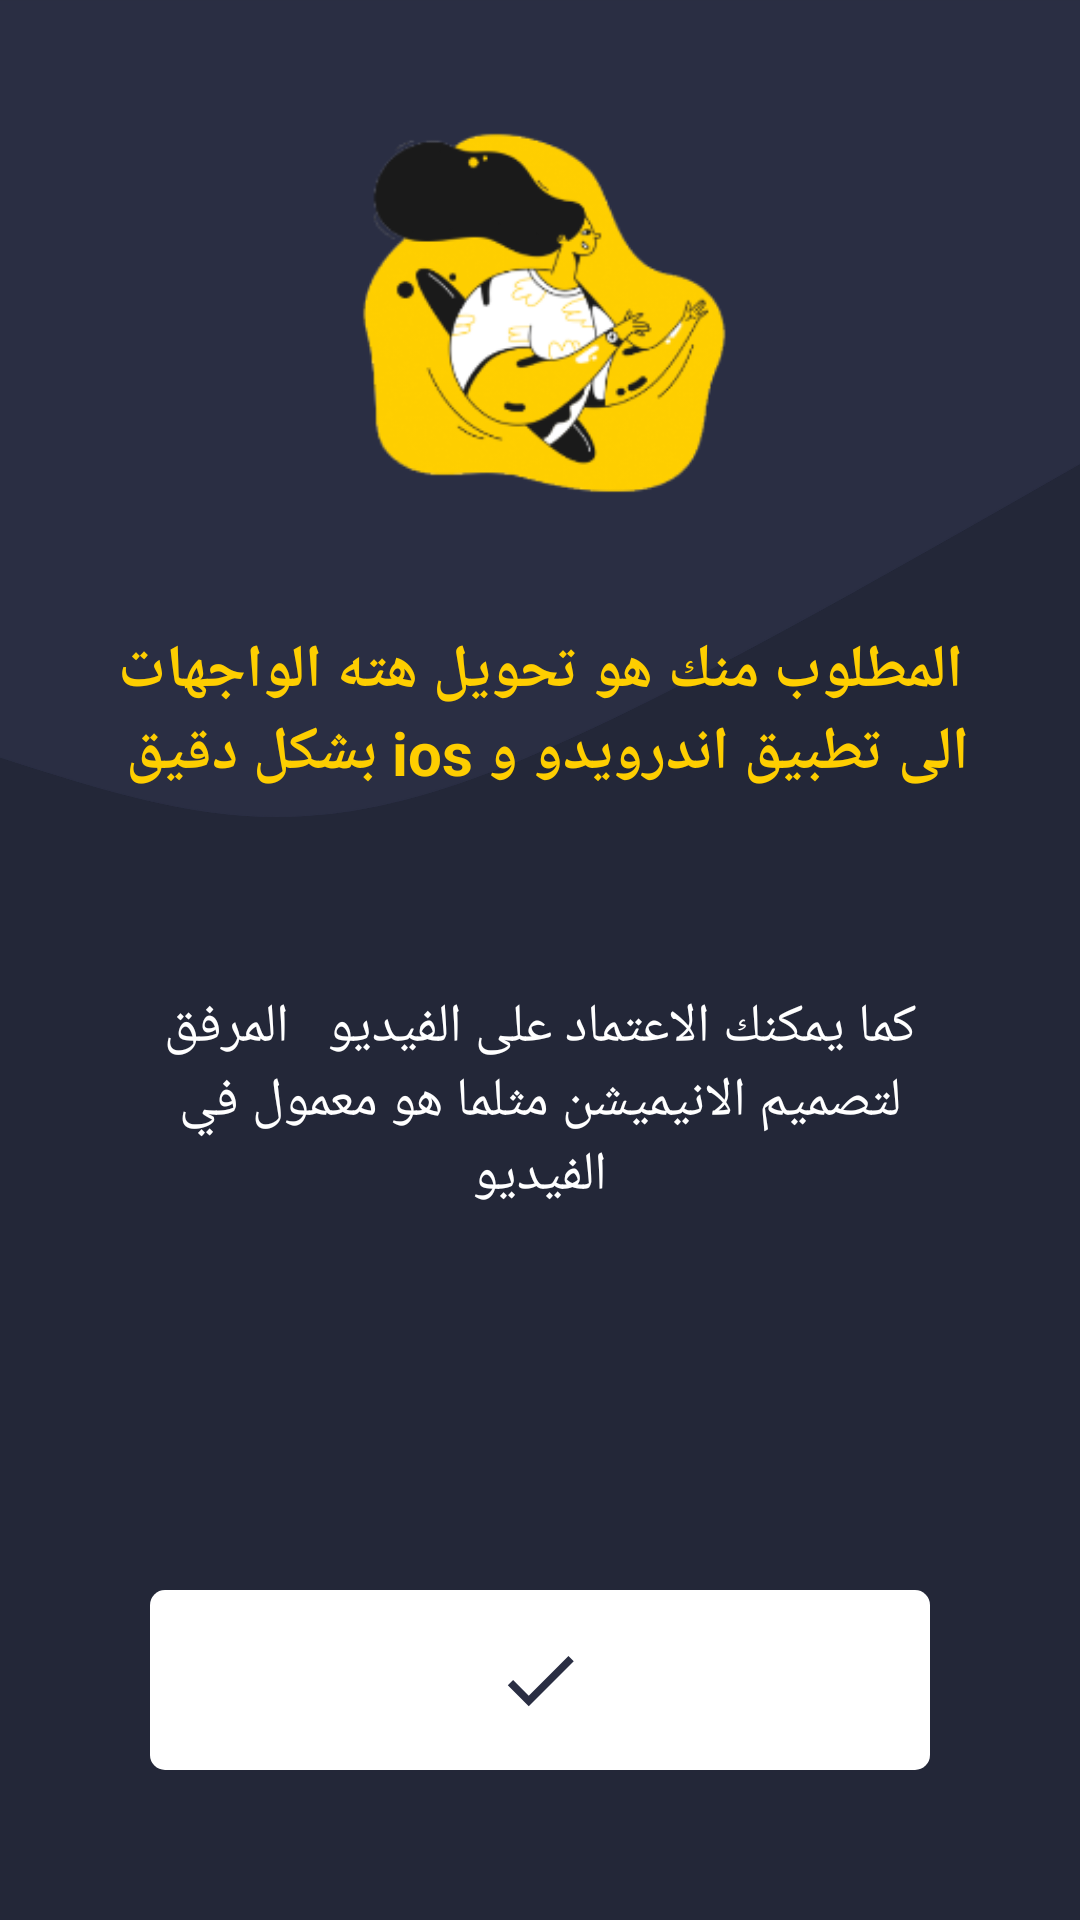

Named icons in this screenshot (1080×1920) and their bounding boxes, (left=x1, top=y1, right=x2, bottom=y2):
check: (left=508, top=1656, right=574, bottom=1706)
